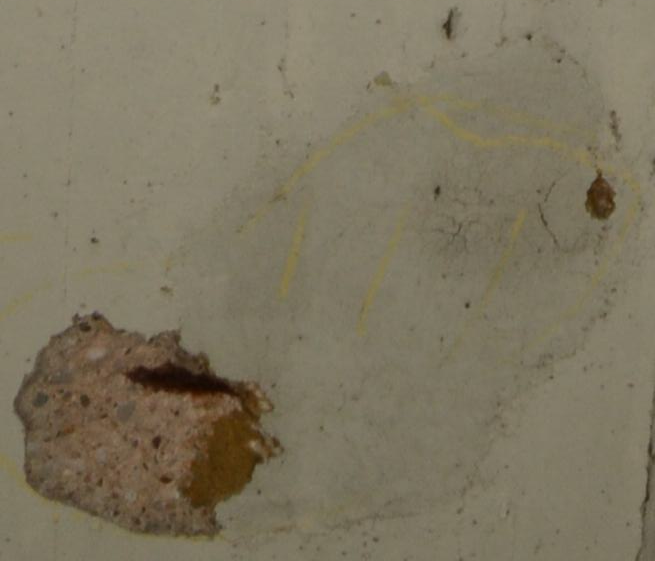Exposed reinforcement: (121, 361, 240, 398)
Spalling: (13, 311, 285, 539), (583, 168, 616, 221)
